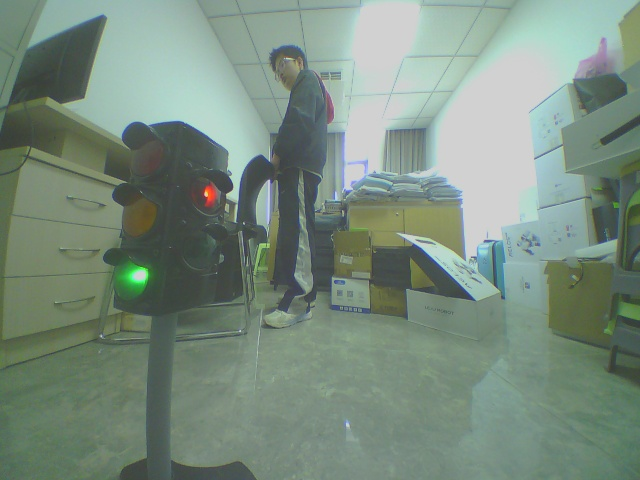Green: (91, 116, 228, 315)
